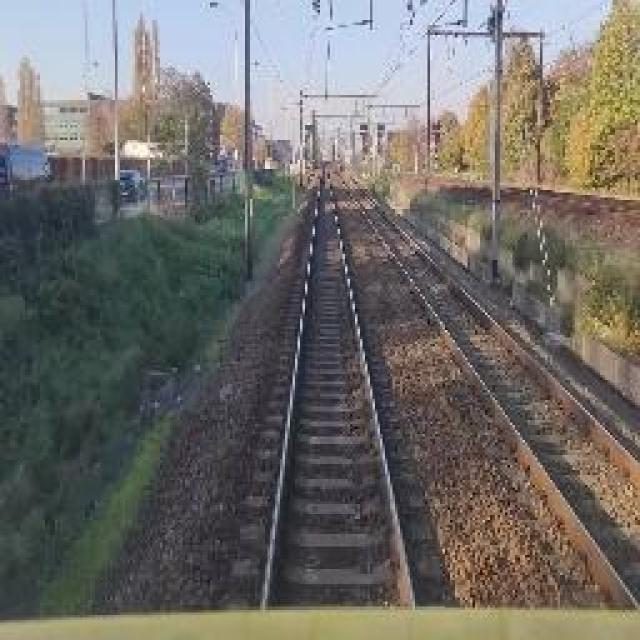rail: (226, 161, 446, 609)
